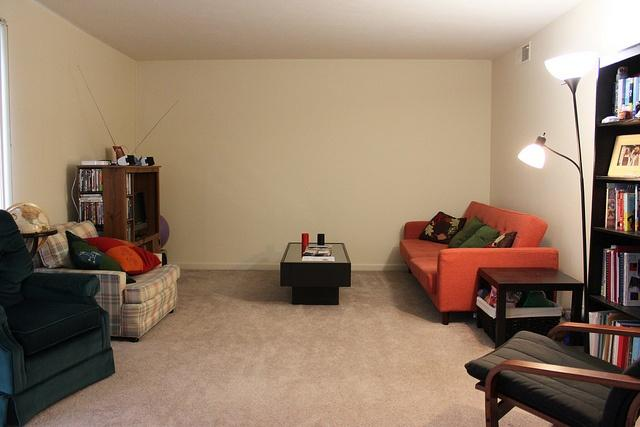Meja: (475, 266, 586, 348)
Rak: (584, 42, 639, 371)
